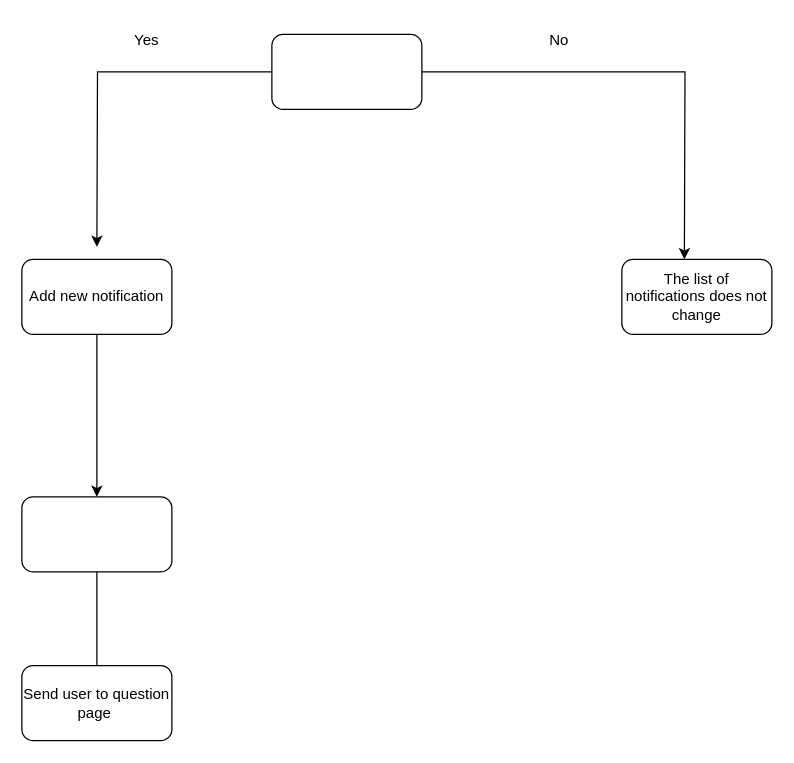
Some shapes in this 794 by 763 pixel diagram are drawn without their labels. Here are the shapes that lost their labels. From the top down, the centre of each, then its label:
the point at 346,71: New Notification?
the point at 96,534: Show new notification
